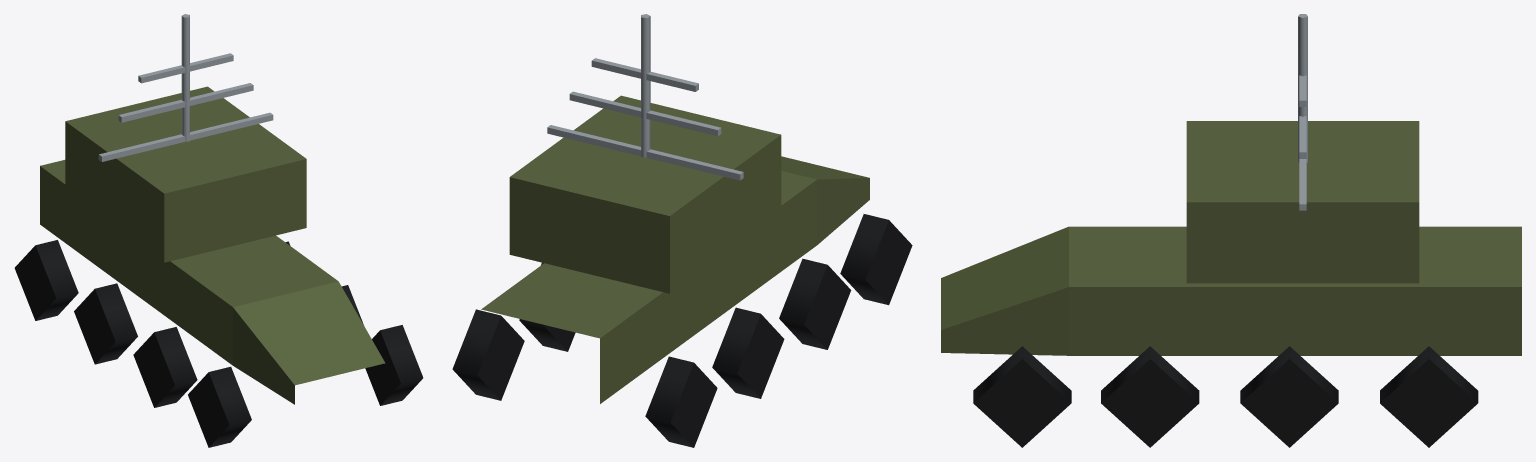
File: veh_ground_jammer_a08_lod2.glb
The picture shows the model from 3 angles, left to right: view 1: azimuth 30°, elevation 25°; view 2: azimuth 150°, elevation 25°; view 3: azimuth 270°, elevation 25°; orthographic projection. The views are drawn at different scales.
Visible parts, largest first — view 1: body, antenna, wheel_0, wheel_2, wheel_4, wheel_6, wheel_7; view 2: body, antenna, wheel_4, wheel_0, wheel_6, wheel_2, wheel_1, wheel_3; view 3: body, wheel_3, wheel_5, wheel_7, wheel_1, antenna.
Boxes of the visible parts, x1,y1,x2,y2 form: body: (40, 86, 385, 404); antenna: (98, 14, 273, 161); wheel_0: (14, 240, 78, 320); wheel_2: (74, 283, 137, 364); wheel_4: (133, 327, 197, 407); wheel_6: (188, 366, 251, 447); wheel_7: (365, 325, 423, 405); body: (481, 95, 869, 403); antenna: (547, 14, 743, 180); wheel_4: (779, 258, 851, 349); wheel_0: (645, 356, 717, 447); wheel_6: (840, 214, 912, 305); wheel_2: (712, 307, 784, 398); wheel_1: (452, 309, 524, 400); wheel_3: (519, 262, 575, 351); body: (941, 121, 1521, 355); wheel_3: (1240, 346, 1338, 447); wheel_5: (1101, 346, 1199, 447); wheel_7: (973, 346, 1071, 447); wheel_1: (1380, 346, 1478, 447); antenna: (1298, 14, 1307, 210).
Bounding box in the file's own units: 2.94 × 4.65 × 6.5.
